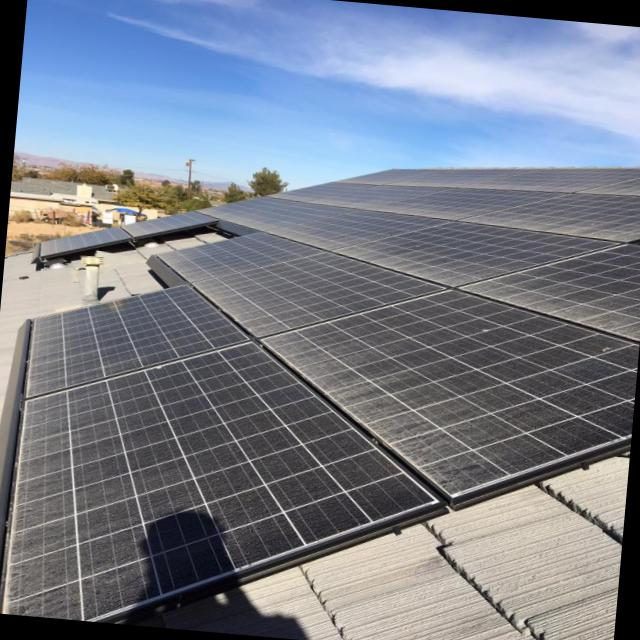faulty: (3, 339, 448, 622)
